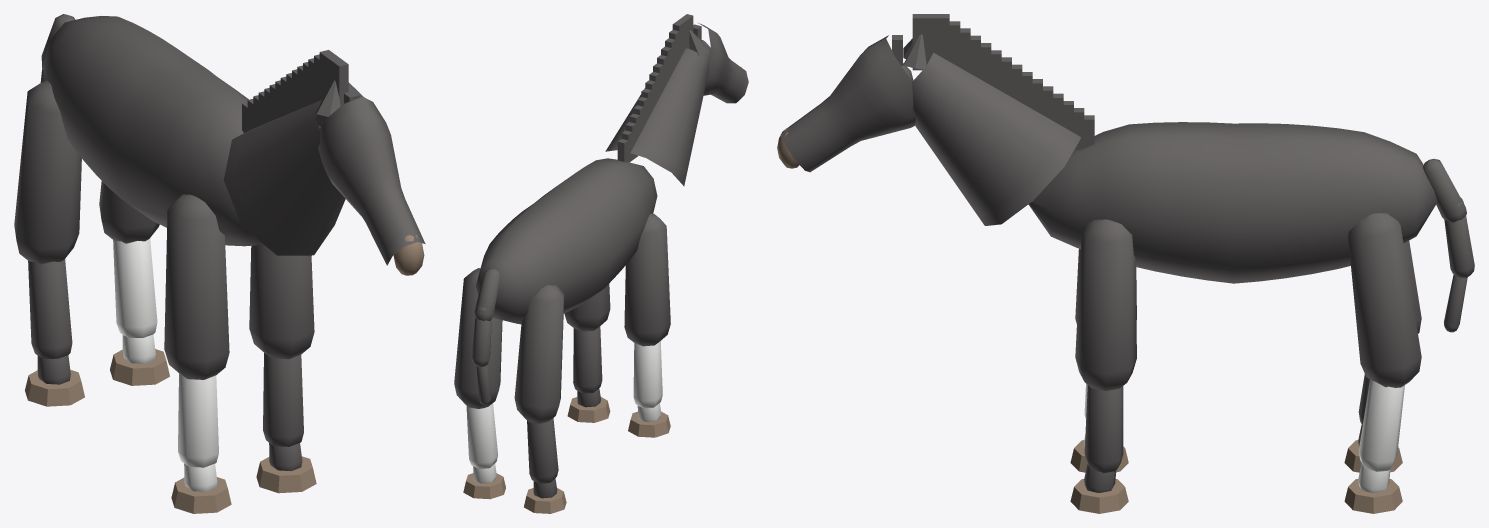
Rendered from equestrian-yard-and-stables-draft-horse-standing-black-ccf84bdb.glb.
3 renders of one model, left to right at view 1: azimuth 30°, elevation 25°; view 2: azimuth 150°, elevation 25°; view 3: azimuth 270°, elevation 25°, orthographic. The views are drawn at different scales.
Parts seen in each view (by area): view 1: draft-horse-standing-black; view 2: draft-horse-standing-black; view 3: draft-horse-standing-black.
Part boxes in pixels (x1=…): draft-horse-standing-black: x1=14, y1=14, x2=425, y2=513; draft-horse-standing-black: x1=454, y1=14, x2=748, y2=513; draft-horse-standing-black: x1=777, y1=14, x2=1474, y2=513.
Bounding box in the file's own units: 0.7121 × 2.36 × 3.21.
